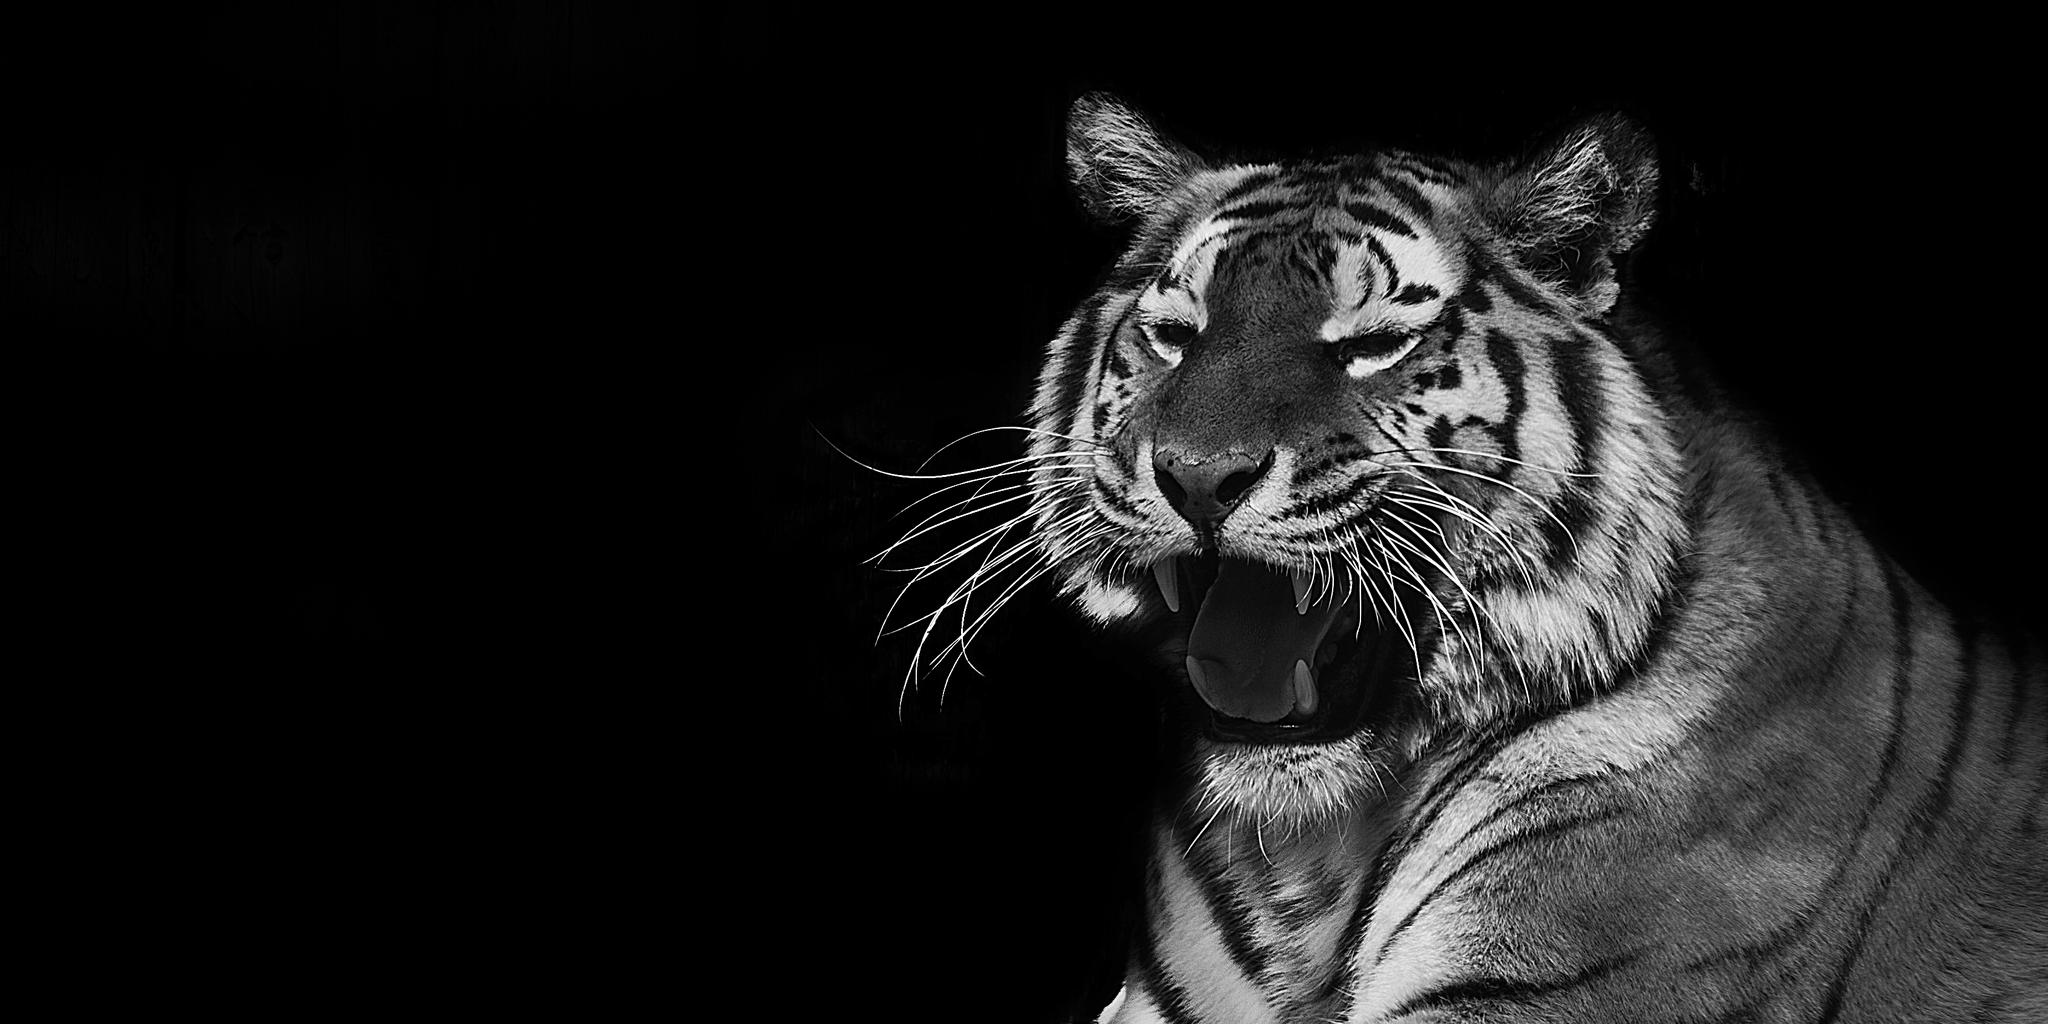tiger: (1007, 72, 1889, 1011)
